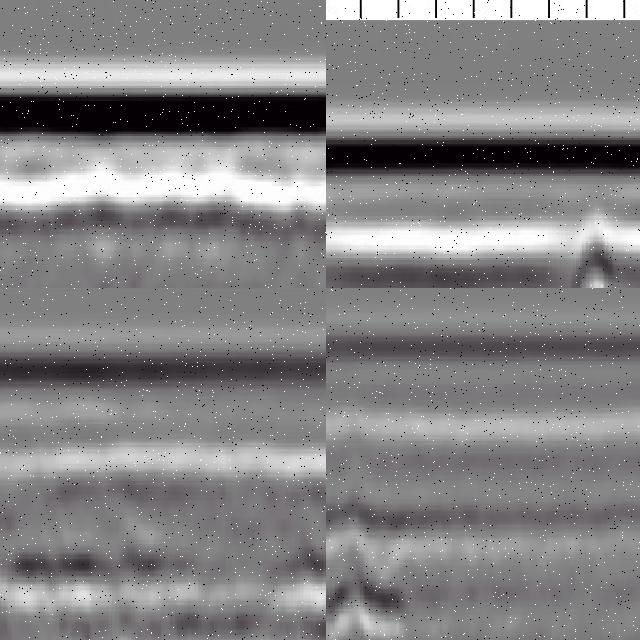crack: (564, 197, 626, 289)
loose: (327, 498, 423, 637), (1, 522, 65, 640), (1, 180, 48, 289)
